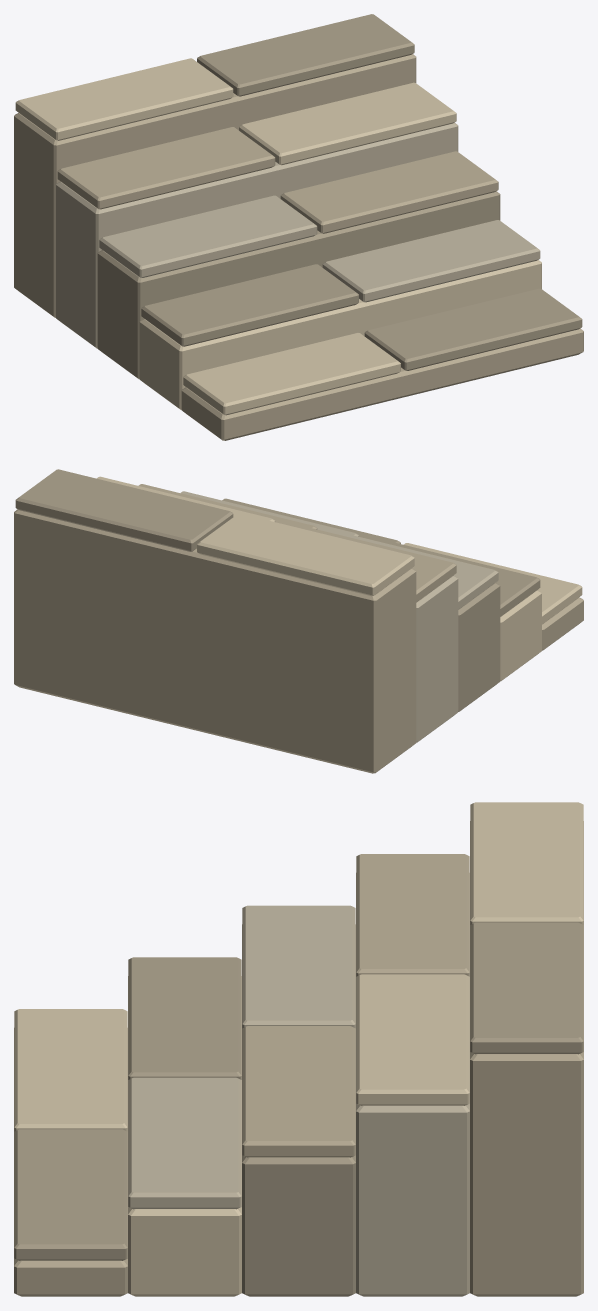
The model's file is Stair_Narrow_2x2.fbx.
3 views of the same model, one above another, from view 1: azimuth 30°, elevation 25°; view 2: azimuth 150°, elevation 25°; view 3: azimuth 270°, elevation 25° (orthographic). The views are drawn at different scales.
Visible parts, largest first — view 1: Stair_Narrow_2x2; view 2: Stair_Narrow_2x2; view 3: Stair_Narrow_2x2.
Boxes of the visible parts, x1=… form: Stair_Narrow_2x2: x1=14, y1=14, x2=583, y2=440; Stair_Narrow_2x2: x1=14, y1=469, x2=583, y2=773; Stair_Narrow_2x2: x1=14, y1=802, x2=583, y2=1296.
Bounding box in the file's own units: 2 × 1 × 2.
